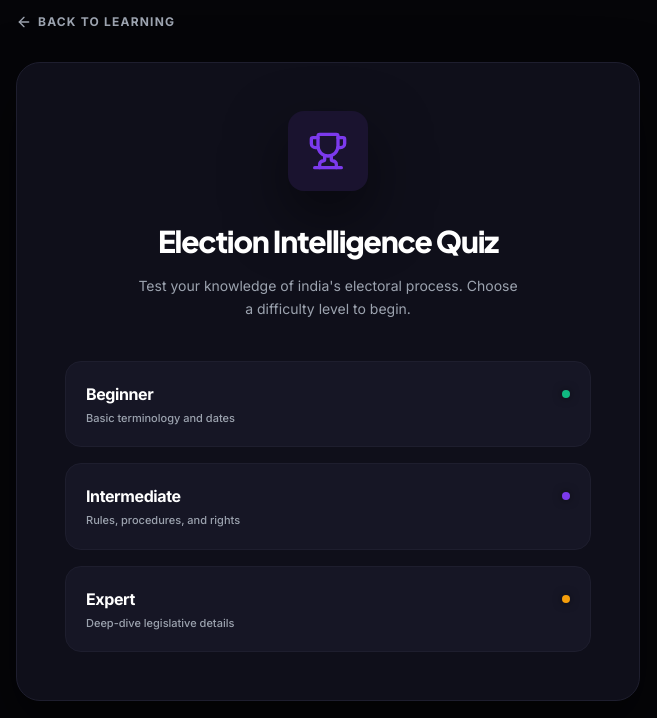
Scenario: Quiz Page › starts quiz when difficulty is selected
Click the text "Beginner": (120, 394) x1=86 y1=382 x2=153 y2=406
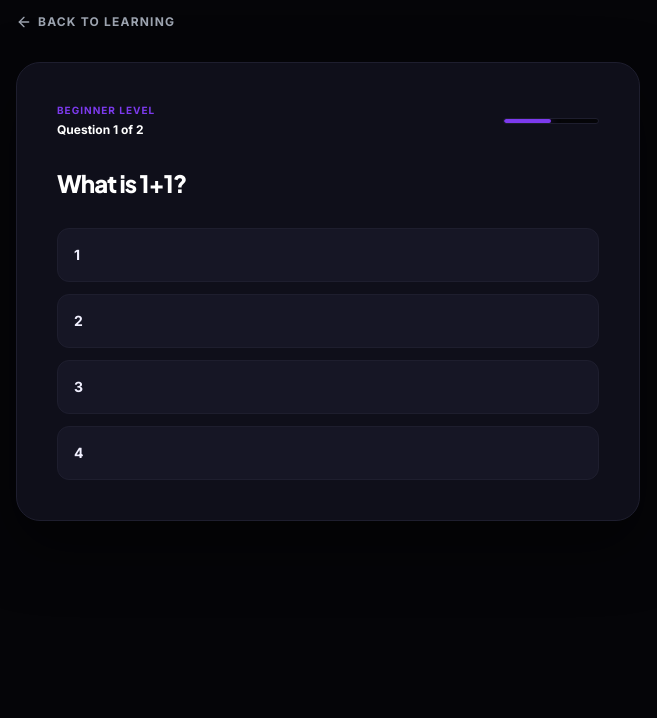
Result: the text "Question 1 of 2" is shown at x1=57 y1=122 x2=155 y2=138
Result: the heading "What is 1+1?" is shown at x1=57 y1=168 x2=186 y2=198
